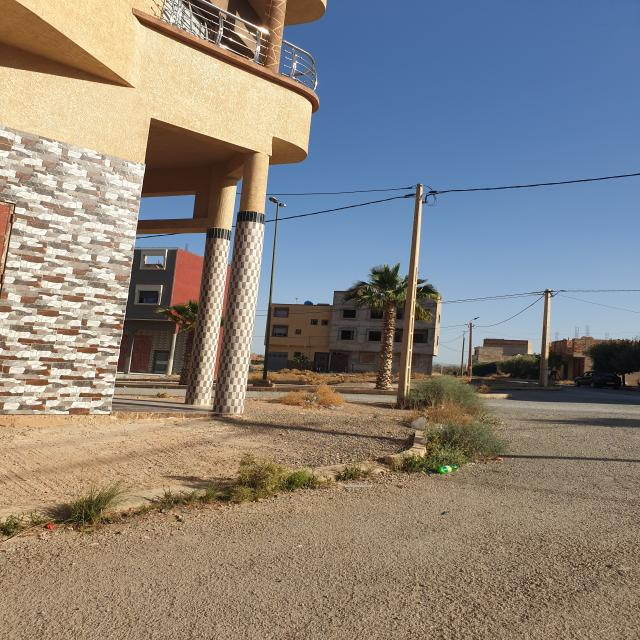Electric pole: (397, 183, 423, 405), (262, 196, 286, 381), (539, 289, 552, 388)
Tree: (343, 263, 408, 390), (415, 279, 442, 322)
